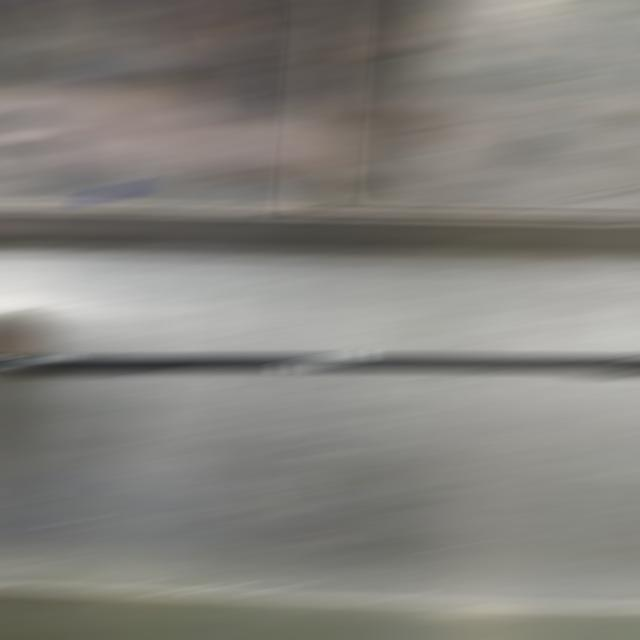white: (292, 357, 353, 368)
